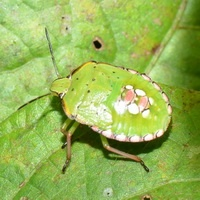insect: (27, 30, 171, 172)
